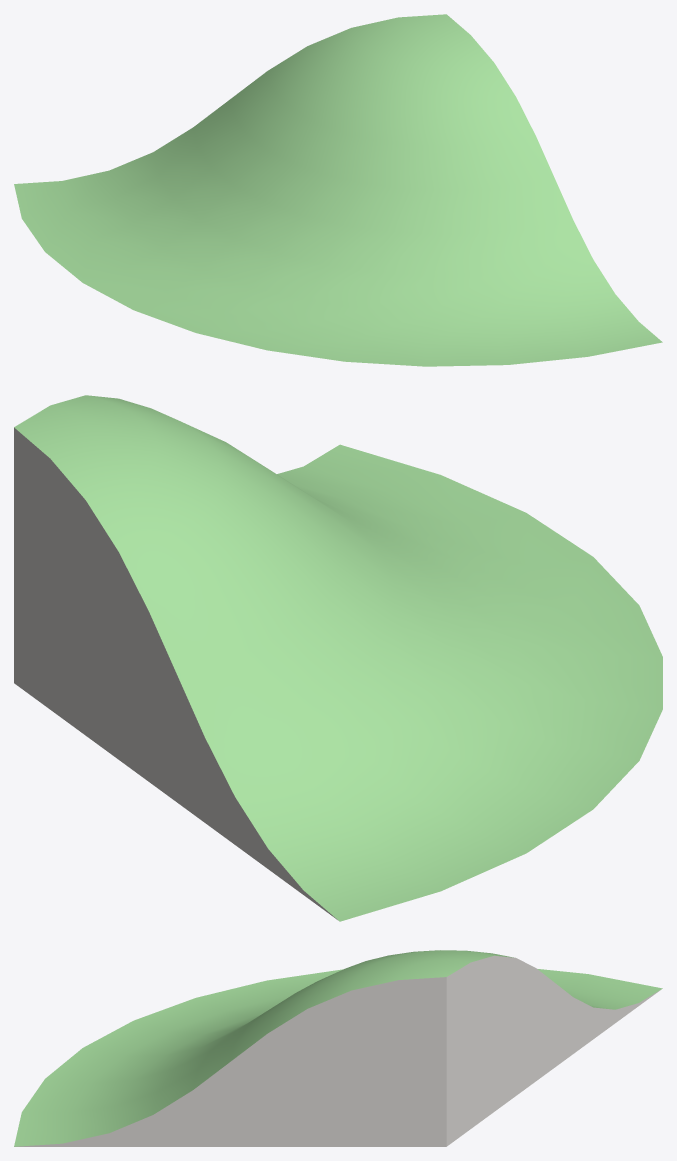
Rendered from Terrain_Grass_Hill_Curve_Outer_Sharp.glb.
3 renders of one model, top to bottom at view 1: azimuth 30°, elevation 25°; view 2: azimuth 150°, elevation 25°; view 3: azimuth 270°, elevation 25°, orthographic. The views are drawn at different scales.
Parts seen in each view (by area): view 1: object1.001; view 2: object1.001; view 3: object1.001.
Boxes of the visible parts, bbox=[...] form: object1.001: bbox=[14, 14, 662, 366]; object1.001: bbox=[14, 395, 662, 921]; object1.001: bbox=[14, 950, 662, 1146].
Bounding box in the file's own units: 0.5767 × 0.25 × 0.866.
